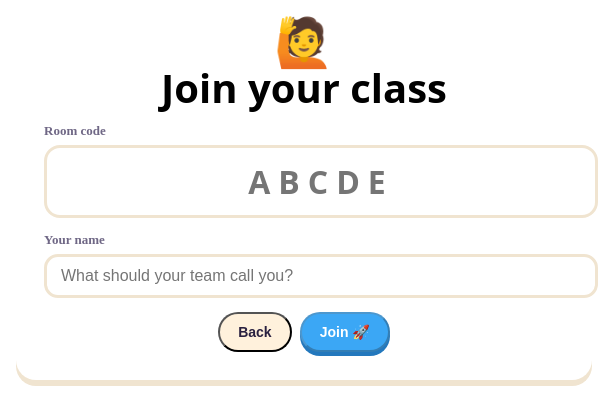
StudentJoin › disables Join until code is valid and name is filled, normalizes code
The width and height of the screenshot is (615, 403).
Check: the button "Join 🚀" is disabled, box [300,312,390,352]
In the field labelled "Room code": (321, 181) [44,144,598,218], type "ab cde"
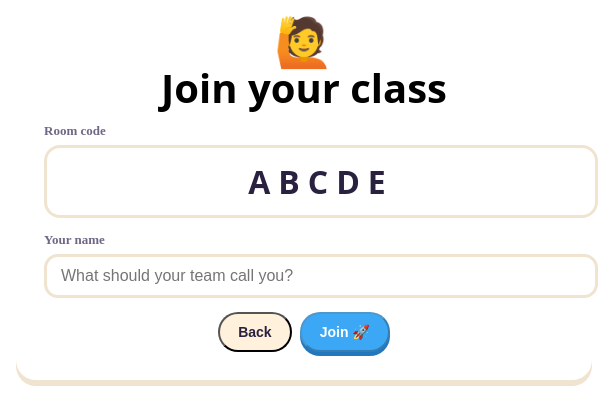
Check: the button "Join 🚀" is disabled, box [300,312,390,352]
Check: the field labelled "Room code" holds "ABCDE", box [44,144,598,218]
In the field labelled "Your name": (321, 276) [44,254,598,298], type "Sana"
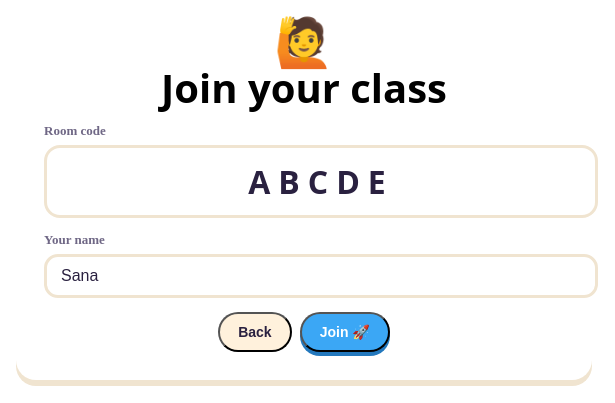
Check: the button "Join 🚀" is enabled, box [300,312,390,352]
